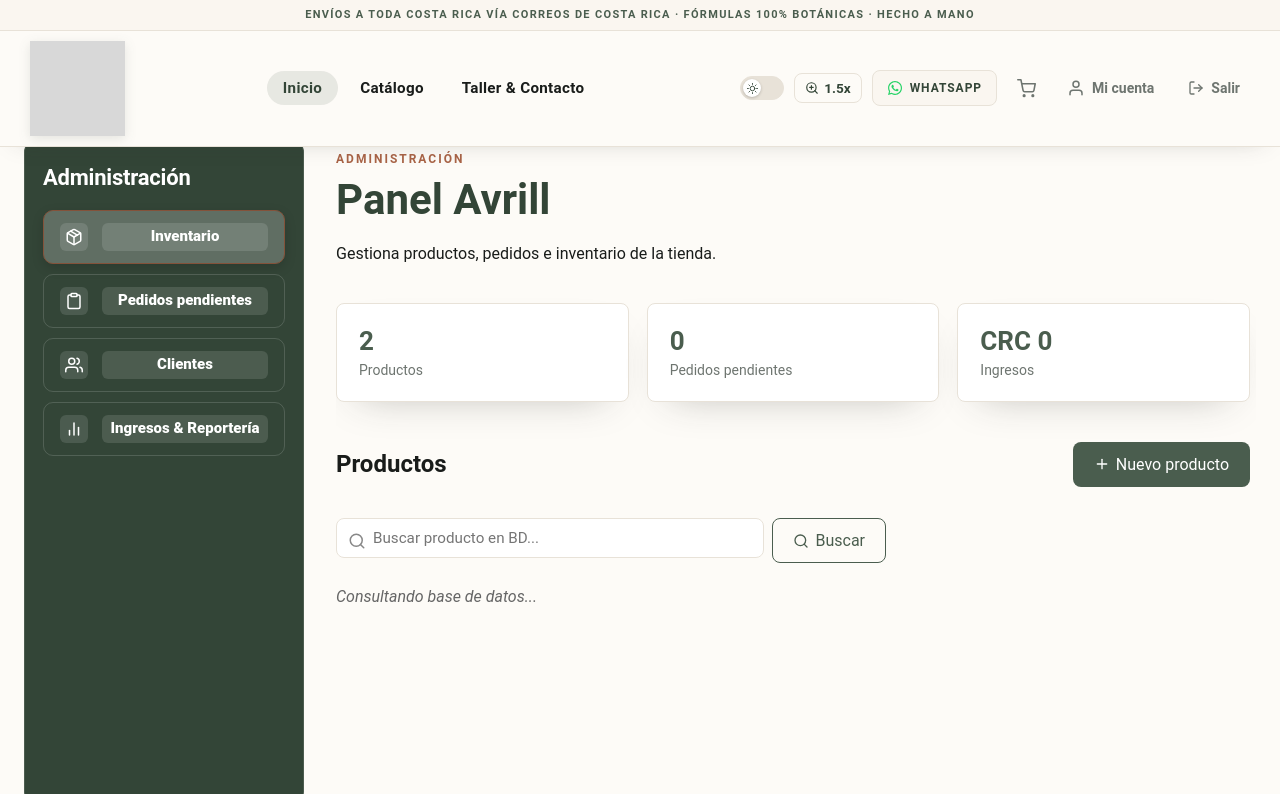
Test: carrito y áreas privadas › muestra panel administrativo y permite cambiar entre módulos
Expected: the heading "Panel Avrill" is shown, [336, 175, 550, 224]
Click the button "Pedidos pendientes": (164,301) [43, 274, 285, 328]
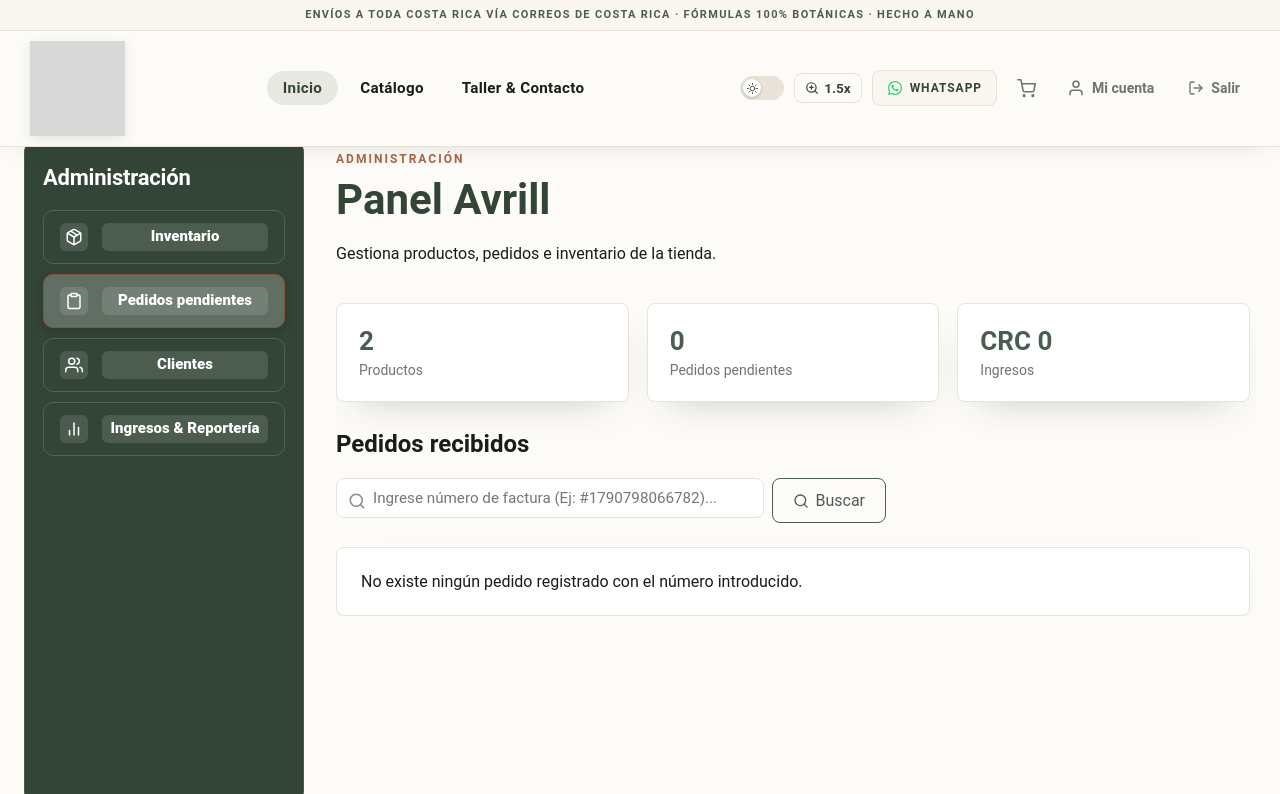
Result: the heading "Pedidos recibidos" is shown at [336, 430, 529, 458]
Click the button "Clientes": (164,365) [43, 338, 285, 392]
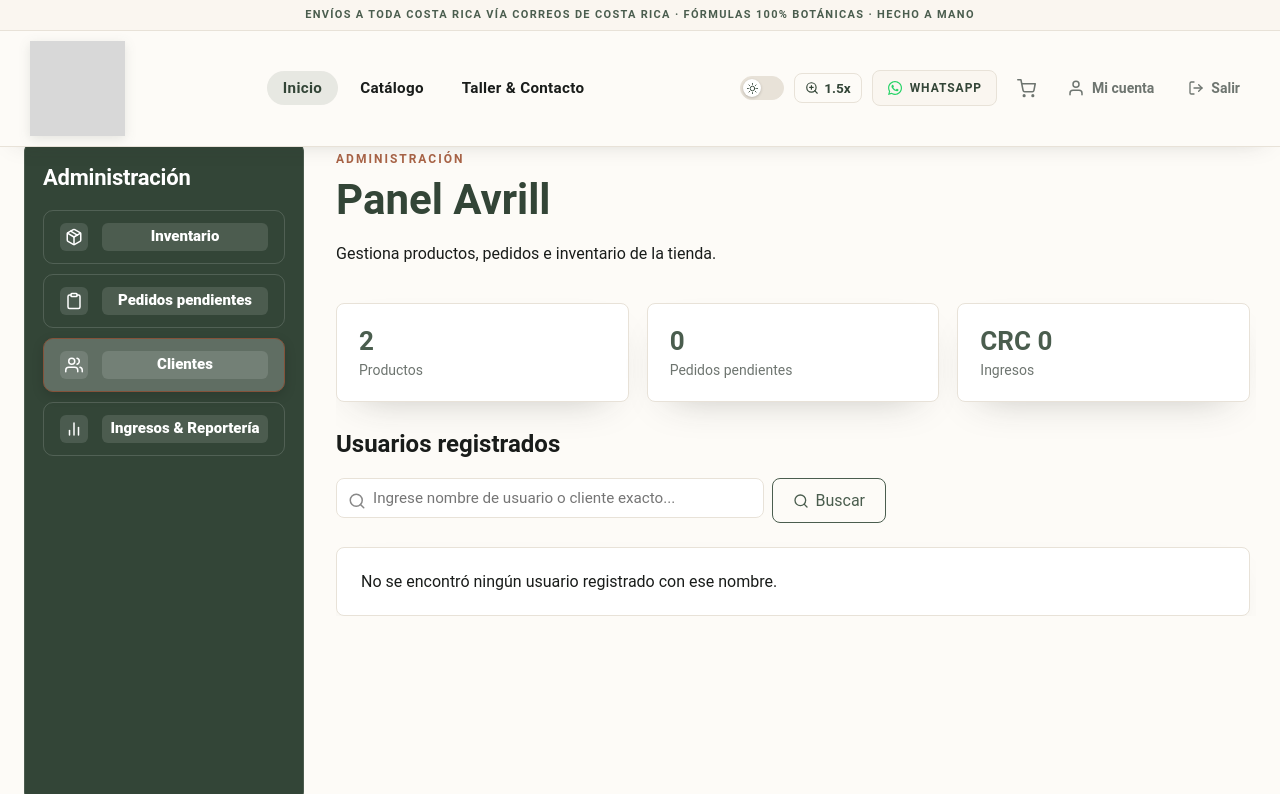
Result: the heading "Usuarios registrados" is shown at [336, 430, 560, 458]
Click the button "Ingresos & Reportería": (164,429) [43, 402, 285, 456]
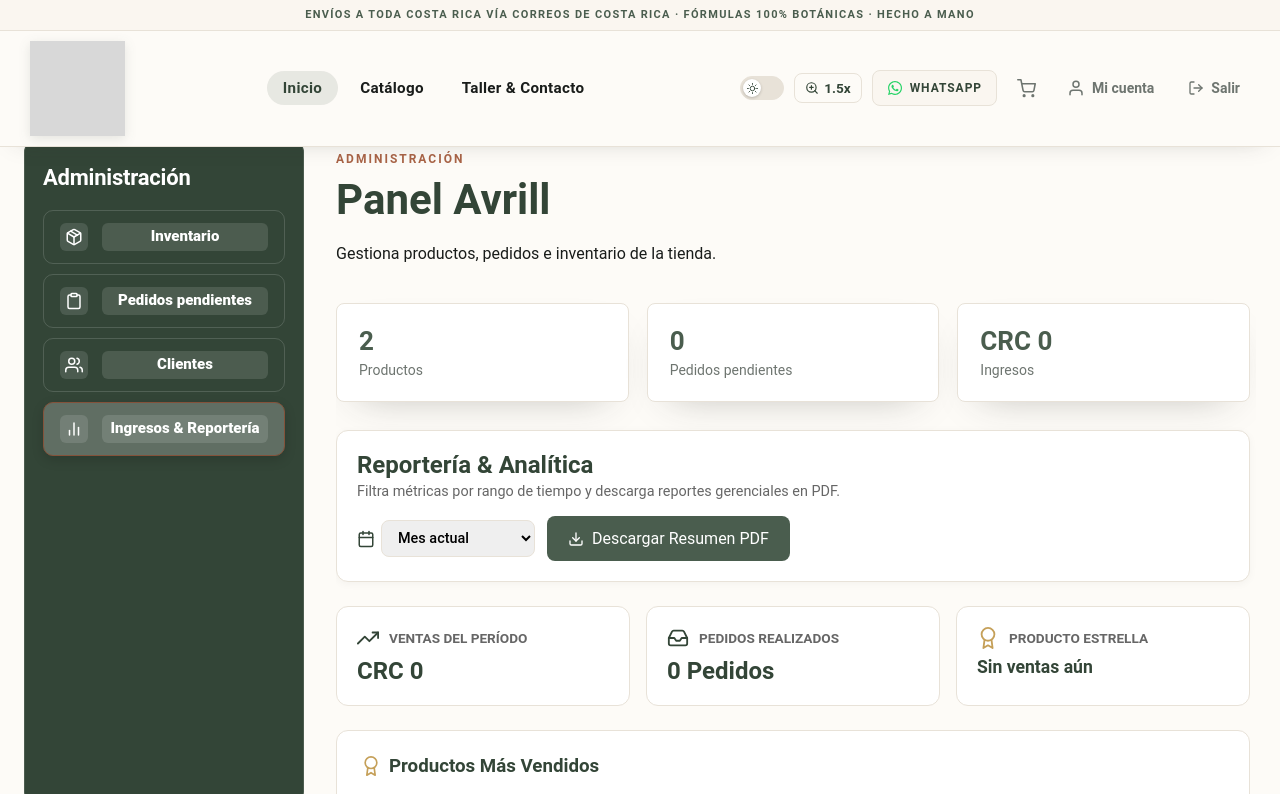
Result: the heading "Reportería & Analítica" is shown at [357, 451, 593, 479]
